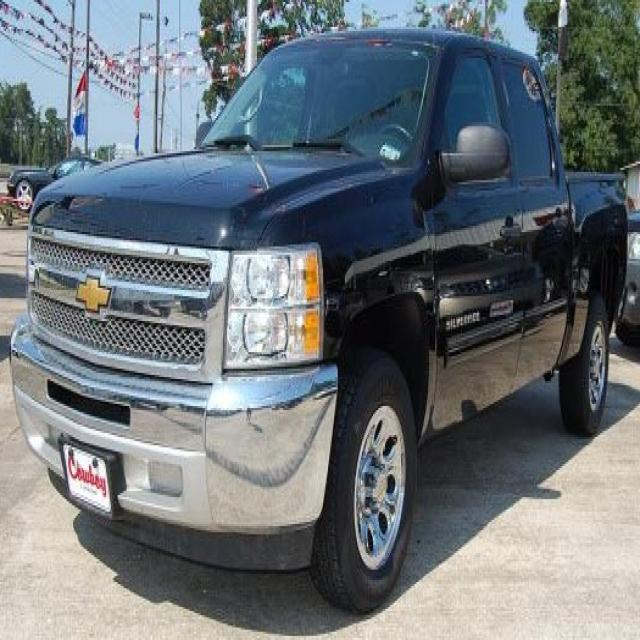CMT: (31, 22, 640, 610)
